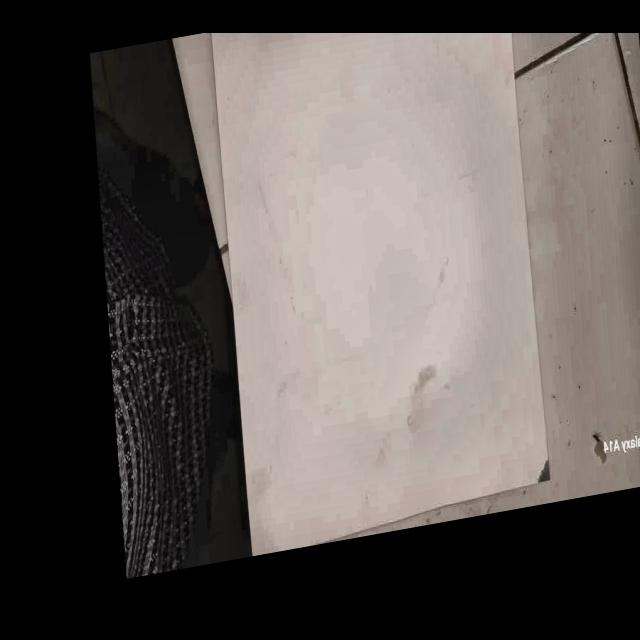TLC Plate: (212, 33, 550, 527)
